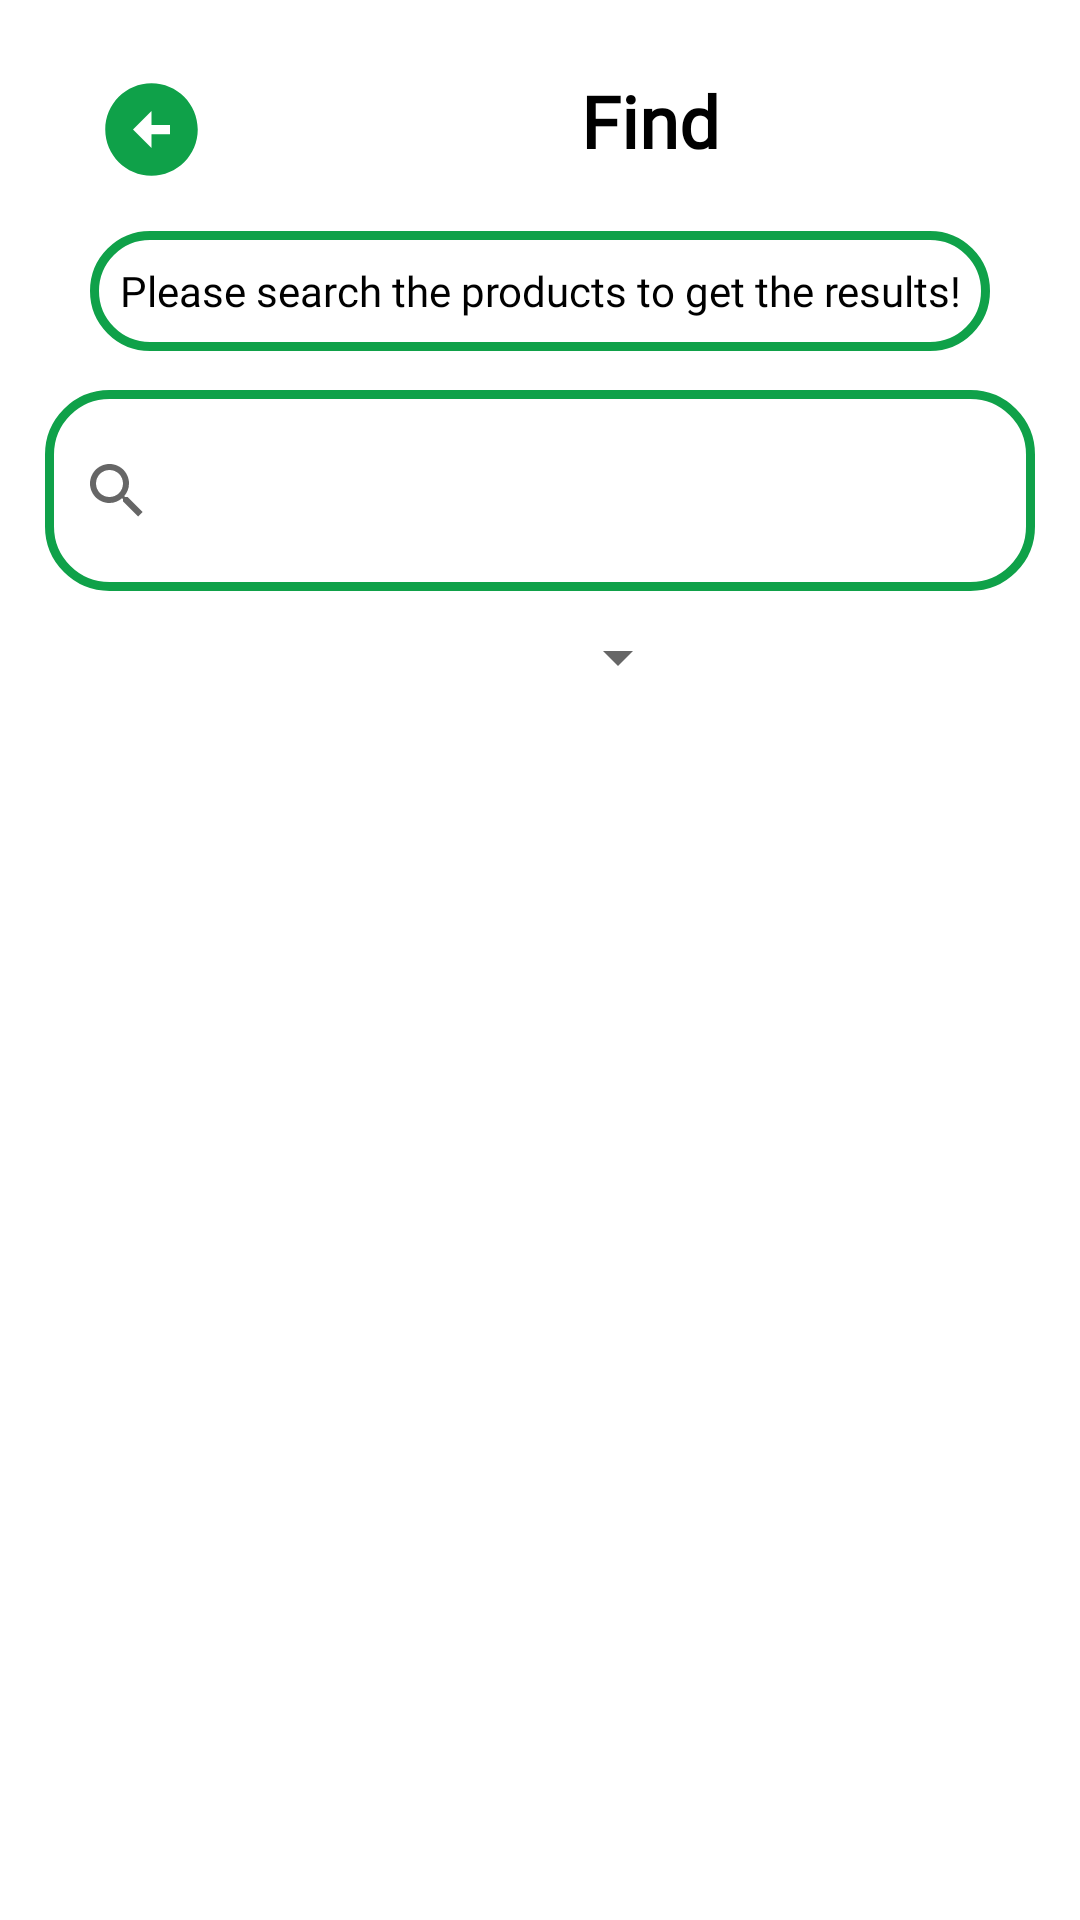

Named icons in this screenshot (1080w x 1920h) and their centers, [x,y]:
arrow back: [151,129]
